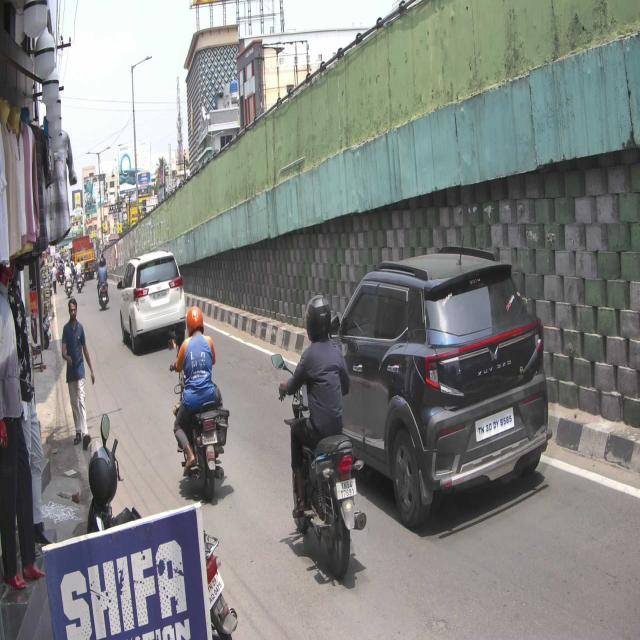single_rider: (272, 290, 370, 576), (169, 304, 228, 492)
